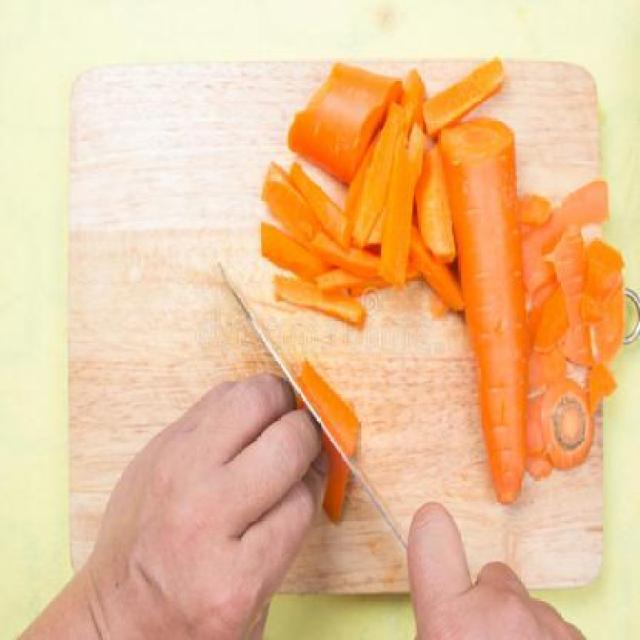carrot: (443, 117, 540, 509)
